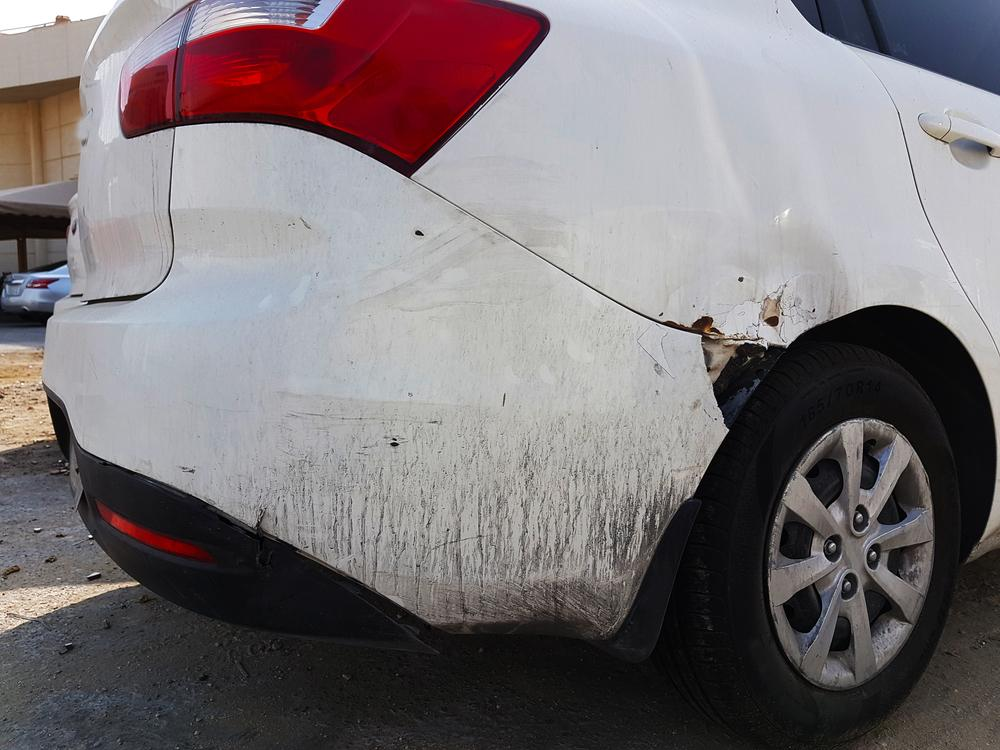dent: (594, 210, 850, 350)
